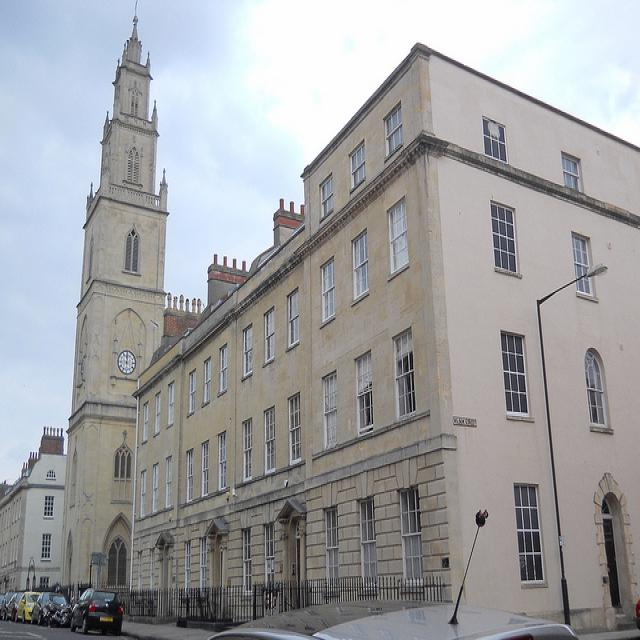Vehicle: (70, 589, 122, 634), (30, 593, 71, 625), (16, 592, 40, 624), (6, 593, 23, 622), (1, 592, 13, 620)
